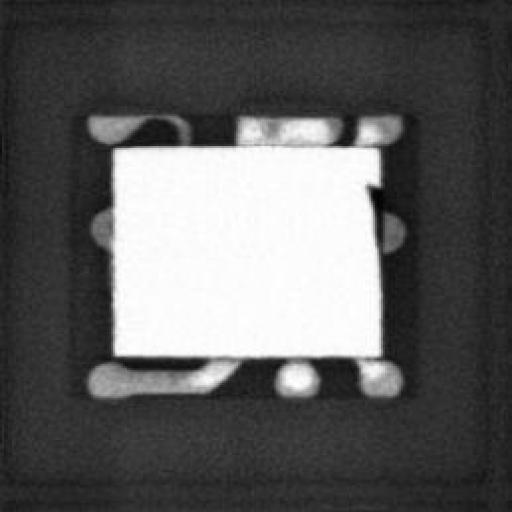DIE_BROKEN: (363, 176, 385, 250)
